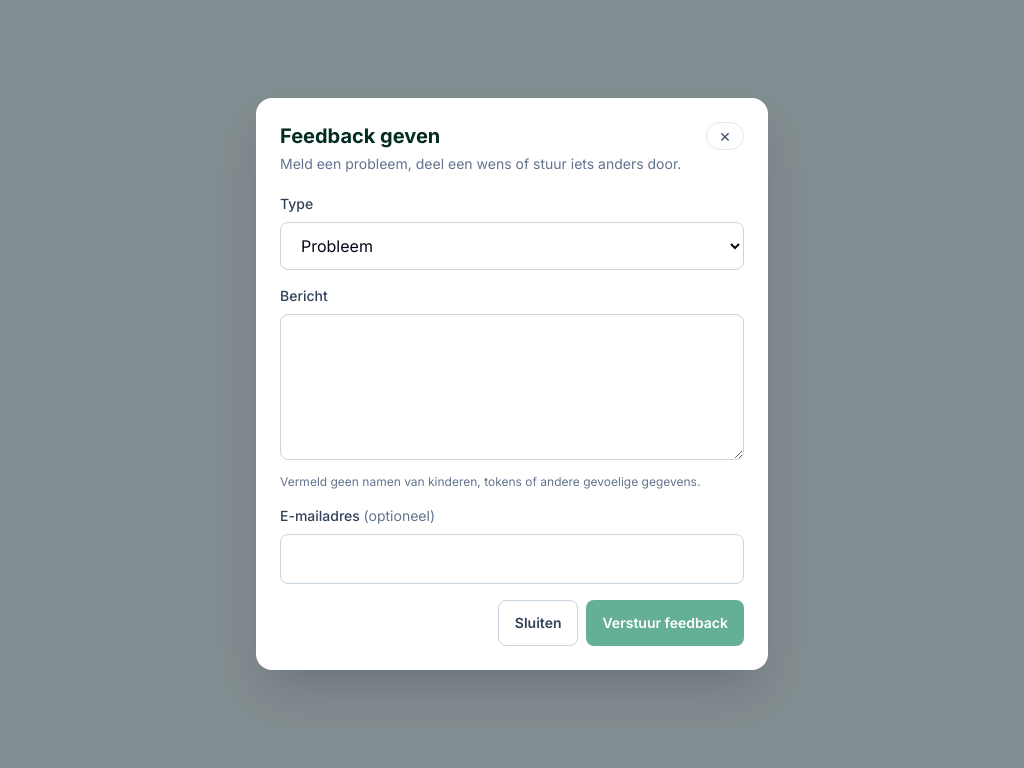
Test: ProductFeedback › verstuurt feedback met technische context en registreert het analytics-event
Step 1. Select "Wens" in the dropdown with id "feedback-type" → point(512, 246), box top-left (280, 222), bottom-right (744, 270)
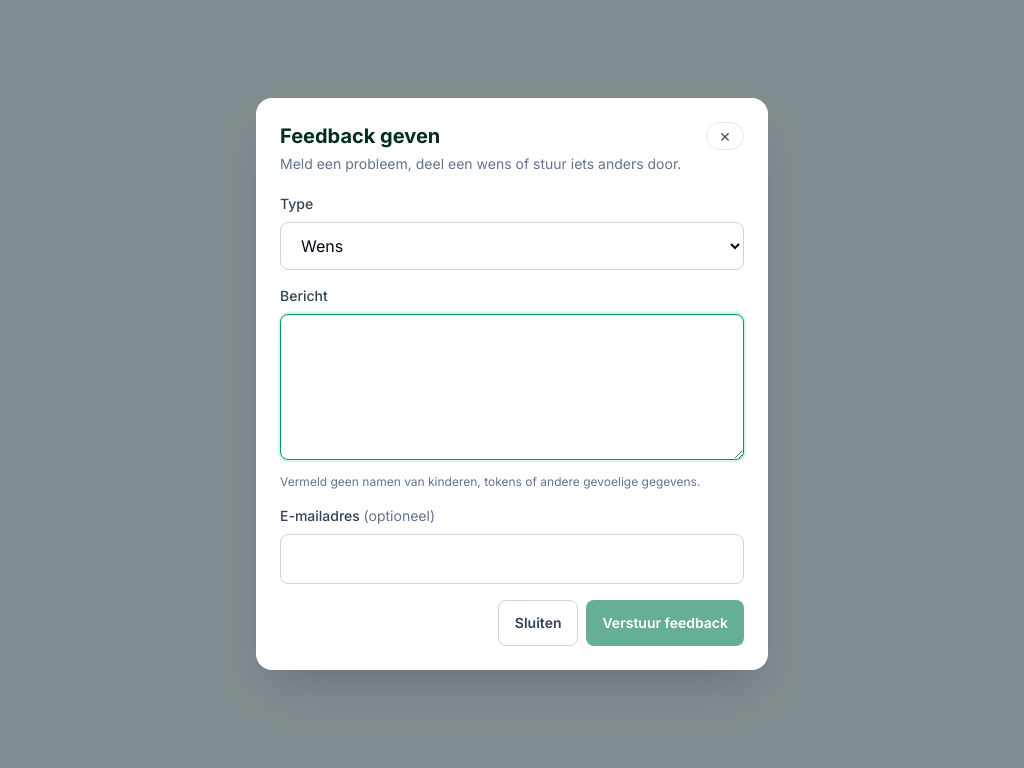
Step 2. Type "Ik mis een printvriendelijke variant." into the text box with id "feedback-message" → point(512, 387), box top-left (280, 314), bottom-right (744, 460)
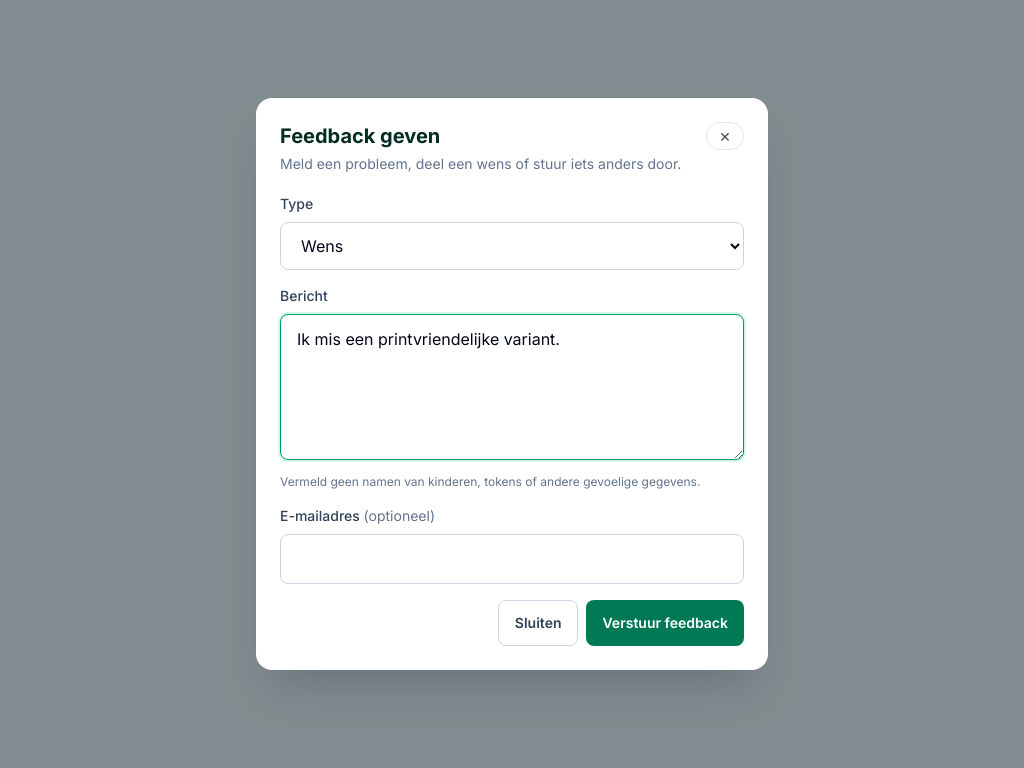
Step 3. Type "ouder@example.com" into the field with id "feedback-email" → point(512, 559), box top-left (280, 534), bottom-right (744, 584)
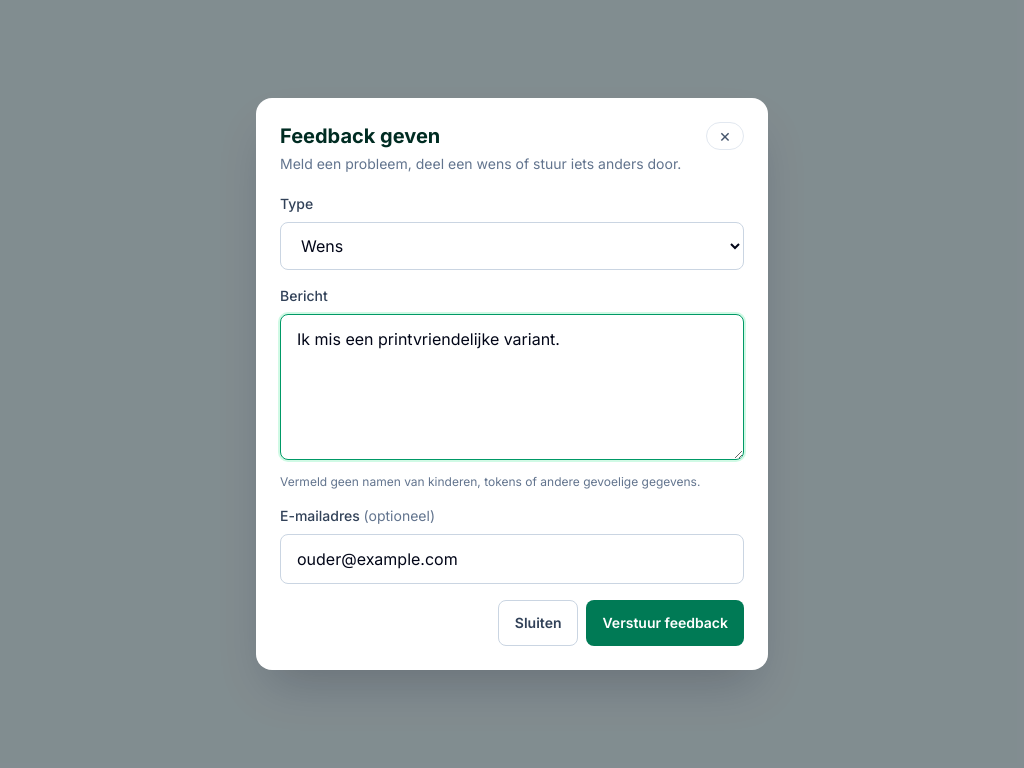
Step 4. Submit the form, box top-left (280, 194), bottom-right (744, 646)
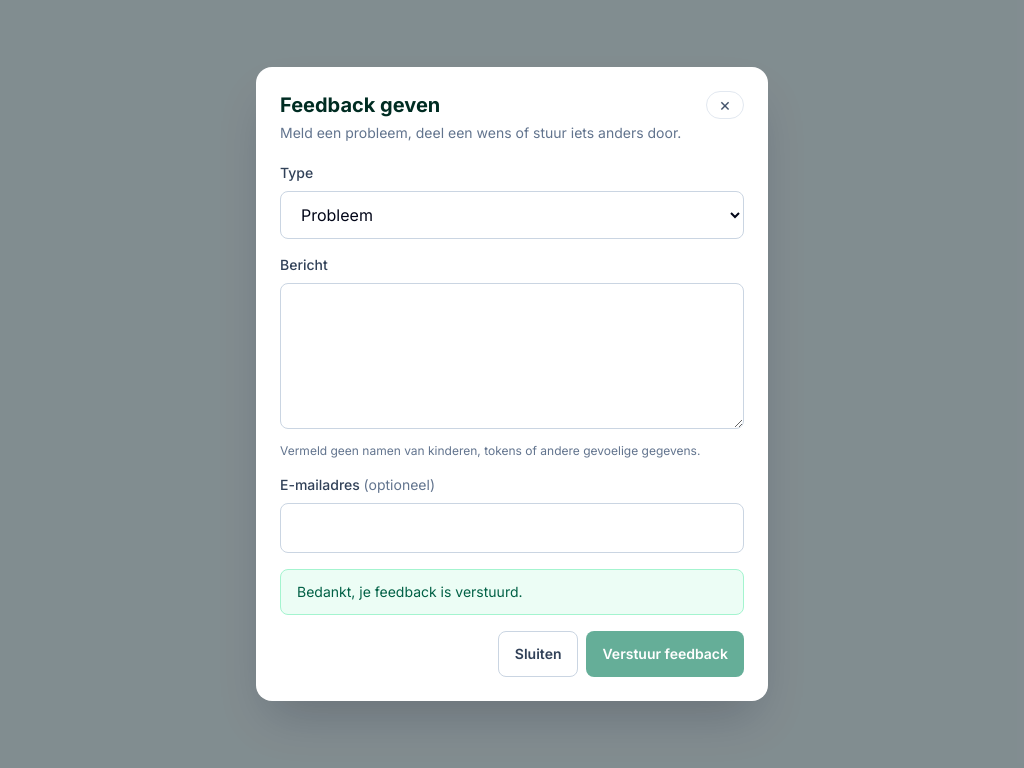
Now the text "Bedankt, je feedback is verstuurd." is shown, box top-left (280, 569), bottom-right (744, 615)
Now the text box with id "feedback-message" is empty, box top-left (280, 283), bottom-right (744, 429)
